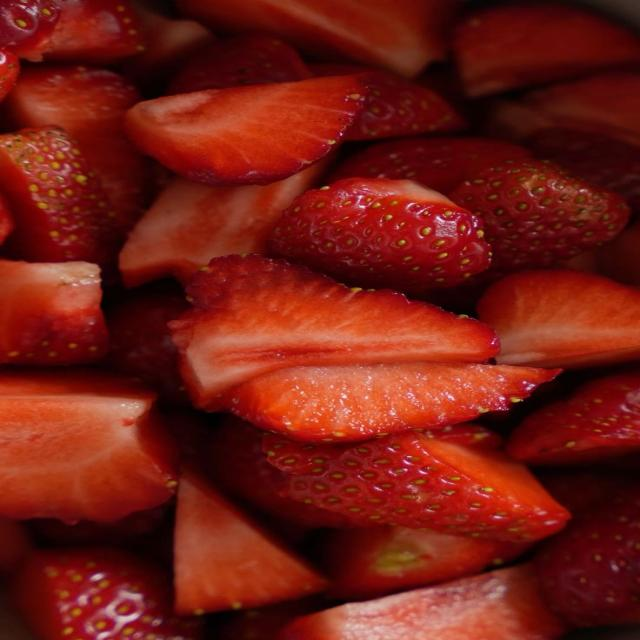strawberry sliced: (171, 255, 498, 408), (264, 431, 569, 542), (0, 369, 176, 521), (126, 75, 366, 185), (226, 363, 558, 441), (269, 179, 490, 296), (120, 163, 324, 286), (6, 66, 147, 231), (174, 473, 326, 614), (279, 565, 567, 639), (178, 0, 459, 75), (450, 160, 629, 272), (454, 0, 639, 96), (11, 548, 202, 639), (0, 127, 118, 265), (208, 416, 350, 528), (478, 270, 639, 367), (323, 526, 527, 600), (536, 485, 639, 626), (507, 372, 639, 464), (312, 64, 465, 140), (0, 260, 108, 365), (488, 71, 639, 145), (331, 138, 530, 194), (107, 283, 188, 404), (526, 128, 639, 210), (169, 33, 313, 93), (124, 0, 214, 89), (45, 0, 144, 65), (30, 502, 171, 546), (217, 597, 324, 639), (537, 468, 628, 516), (0, 0, 62, 61), (595, 221, 639, 286), (0, 518, 33, 575), (0, 49, 19, 101), (0, 194, 13, 244)
